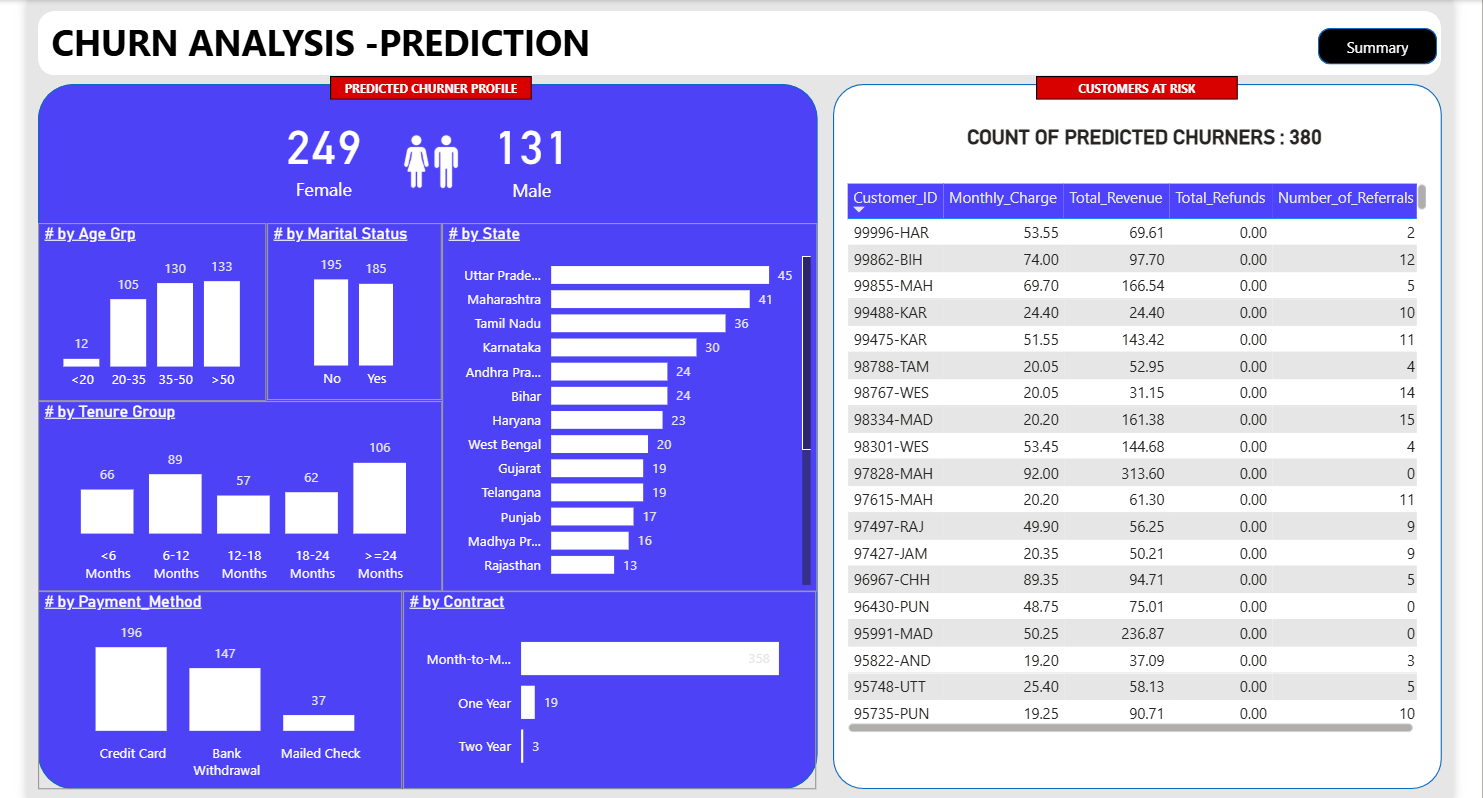

The page's visual inventory and layout, read from the dashboard file:
{"tool":"powerbi","page":{"name":"Churn Prediction","canvas":[1280,720],"ordinal":2},"visuals":[{"type":"shape","box":[10.2,10.2,1259.5,57.6],"z":0},{"type":"shape","box":[723.2,75.3,546.6,633],"z":1000},{"type":"shape","box":[10.2,75.3,700,633],"z":2000},{"type":"tableEx","fields":{"Values":["Predictions.Customer_ID","Predictions.Monthly_Charge","Predictions.Total_Revenue","Predictions.Total_Refunds","Predictions.Number_of_Referrals"]},"box":[730.6,159.9,530.8,502.9],"z":3000},{"type":"card","fields":{"Values":["tbl_Measures.Title Predicted Churner"]},"box":[793.8,57.6,419.2,131.1],"z":4000},{"type":"card","fields":{"Values":["tbl_Measures.Count Predicted Churner"]},"box":[222.2,92.9,89.2,92],"z":5000,"group":"g1"},{"type":"card","fields":{"Values":["tbl_Measures.Count Predicted Churner"]},"box":[409,89.2,89.2,99.5],"z":6000,"group":"g1"},{"type":"clusteredColumnChart","fields":{"Category":["mapping_AgeGrp.Age Grp"],"Y":["CountNonNull(Predictions.Customer_ID)"]},"box":[10.2,199.9,205.4,159.9],"z":7000},{"type":"clusteredColumnChart","fields":{"Category":["Predictions.Married"],"Y":["CountNonNull(Predictions.Customer_ID)"]},"box":[215.7,199.9,157.1,159],"z":8000},{"type":"clusteredColumnChart","fields":{"Category":["mapping_TenureinMonths.Tenure Group"],"Y":["CountNonNull(Predictions.Customer_ID)"]},"box":[10.2,359.7,362.5,171],"z":9000},{"type":"clusteredColumnChart","fields":{"Category":["Predictions.Payment_Method"],"Y":["CountNonNull(Predictions.Customer_ID)"]},"box":[10.2,530.8,327.2,177.5],"z":10000},{"type":"clusteredBarChart","fields":{"Category":["Predictions.Contract"],"Y":["CountNonNull(Predictions.Customer_ID)"]},"box":[337.4,530.8,370.9,177.5],"z":11000},{"type":"clusteredBarChart","fields":{"Category":["Predictions.State"],"Y":["CountNonNull(Predictions.Customer_ID)"]},"box":[372.8,199.9,337.4,330.9],"z":12000},{"type":"shape","box":[1159.2,25.1,106.9,32.5],"z":13000},{"type":"textbox","box":[16.7,10.2,741.8,57.6],"z":14000},{"type":"shape","box":[272.4,67.9,181.3,21.4],"z":15000},{"type":"shape","box":[905.4,67.9,181.3,21.4],"z":16000},{"type":"image","box":[328.2,107.8,69.7,73.4],"z":17000,"group":"g1"},{"type":"group","id":"g1","title":"Group 1","box":[222.2,89.2,276.1,99.5],"z":17001}]}

Visuals, with their boxes on the page's 1280x720 design canvas (x1, y1, x2, y2). These are canvas units, not pixel positions in the 1483x798 screenshot, which may show the page scaled, cropped or inside an application window:
shape: {"left": 10, "top": 10, "right": 1270, "bottom": 68}
shape: {"left": 723, "top": 75, "right": 1270, "bottom": 708}
shape: {"left": 10, "top": 75, "right": 710, "bottom": 708}
tableEx - Predictions.Customer_ID x Predictions.Monthly_Charge: {"left": 731, "top": 160, "right": 1261, "bottom": 663}
card - tbl_Measures.Title Predicted Churner: {"left": 794, "top": 58, "right": 1213, "bottom": 189}
card - tbl_Measures.Count Predicted Churner: {"left": 222, "top": 93, "right": 311, "bottom": 185}
card - tbl_Measures.Count Predicted Churner: {"left": 409, "top": 89, "right": 498, "bottom": 189}
clusteredColumnChart - mapping_AgeGrp.Age Grp x CountNonNull(Predictions.Customer_ID): {"left": 10, "top": 200, "right": 216, "bottom": 360}
clusteredColumnChart - Predictions.Married x CountNonNull(Predictions.Customer_ID): {"left": 216, "top": 200, "right": 373, "bottom": 359}
clusteredColumnChart - mapping_TenureinMonths.Tenure Group x CountNonNull(Predictions.Customer_ID): {"left": 10, "top": 360, "right": 373, "bottom": 531}
clusteredColumnChart - Predictions.Payment_Method x CountNonNull(Predictions.Customer_ID): {"left": 10, "top": 531, "right": 337, "bottom": 708}
clusteredBarChart - Predictions.Contract x CountNonNull(Predictions.Customer_ID): {"left": 337, "top": 531, "right": 708, "bottom": 708}
clusteredBarChart - Predictions.State x CountNonNull(Predictions.Customer_ID): {"left": 373, "top": 200, "right": 710, "bottom": 531}
shape: {"left": 1159, "top": 25, "right": 1266, "bottom": 58}
textbox: {"left": 17, "top": 10, "right": 758, "bottom": 68}
shape: {"left": 272, "top": 68, "right": 454, "bottom": 89}
shape: {"left": 905, "top": 68, "right": 1087, "bottom": 89}
image: {"left": 328, "top": 108, "right": 398, "bottom": 181}
"Group 1" group: {"left": 222, "top": 89, "right": 498, "bottom": 189}
